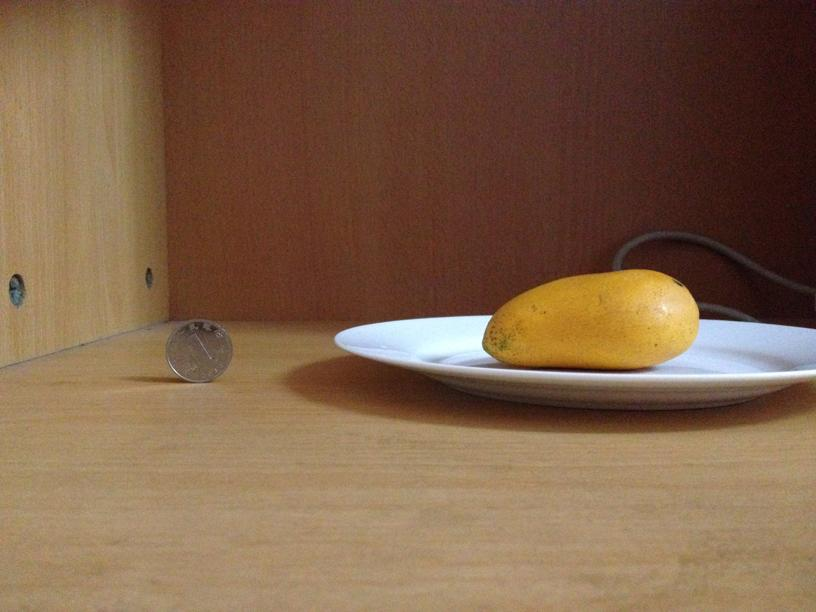coin: (166, 320, 234, 382)
mango: (486, 271, 699, 368)
